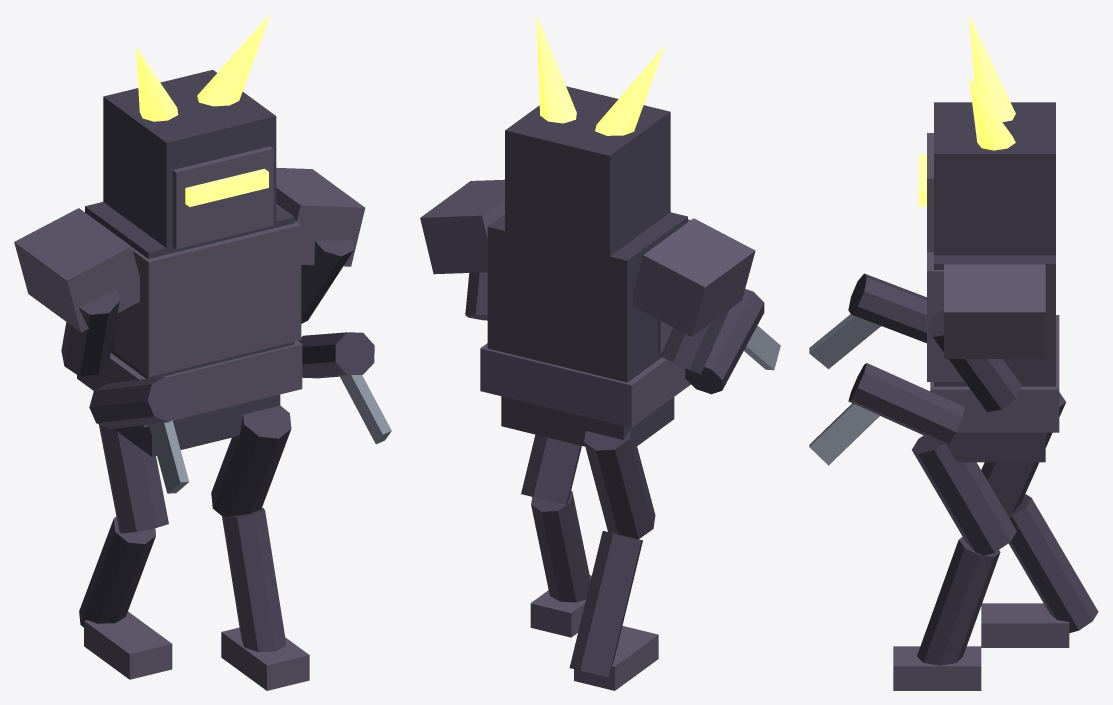
File: enemy_chochin.glb
3 renders of one model, left to right at view 1: azimuth 30°, elevation 25°; view 2: azimuth 150°, elevation 25°; view 3: azimuth 270°, elevation 25°, orthographic. The views are drawn at different scales.
Visible parts, largest first — view 1: ChestPlate, Head, Shoulder_L, Belt, MaskFront, Shin_R, Thigh_R, Shoulder_R, Thigh_L, Shin_L, ArmFore_L, Foot_L (+11 smaller); view 2: Head, Torso, Shoulder_L, Belt, Shin_L, Shoulder_R, Thigh_L, Shin_R, Pelvis, ArmFore_L, Thigh_R, Foot_L (+6 smaller); view 3: Head, Shoulder_R, Thigh_R, Shin_L, Shin_R, ArmFore_R, Belt, Torso, Foot_L, ArmFore_L, Foot_R, Pelvis (+9 smaller).
Part boxes in pixels (left/top/right/bottom): ChestPlate: left=113, top=221, right=301, bottom=376; Head: left=103, top=70, right=276, bottom=254; Shoulder_L: left=14, top=208, right=139, bottom=332; Belt: left=77, top=341, right=302, bottom=427; MaskFront: left=172, top=146, right=273, bottom=249; Shin_R: left=222, top=508, right=286, bottom=651; Thigh_R: left=211, top=405, right=291, bottom=516; Shoulder_R: left=276, top=167, right=365, bottom=266; Thigh_L: left=99, top=424, right=168, bottom=533; Shin_L: left=79, top=516, right=155, bottom=627; ArmFore_L: left=89, top=376, right=186, bottom=428; Foot_L: left=84, top=611, right=172, bottom=679; Head: left=505, top=86, right=670, bottom=265; Torso: left=487, top=212, right=687, bottom=382; Shoulder_L: left=632, top=218, right=755, bottom=336; Belt: left=480, top=343, right=690, bottom=427; Shin_L: left=569, top=531, right=642, bottom=677; Shoulder_R: left=420, top=179, right=504, bottom=274; Thigh_L: left=584, top=430, right=655, bottom=539; Shin_R: left=531, top=491, right=590, bottom=602; Pelvis: left=501, top=396, right=674, bottom=446; ArmFore_L: left=685, top=289, right=764, bottom=394; Thigh_R: left=521, top=434, right=581, bottom=504; Foot_L: left=574, top=626, right=658, bottom=690; Head: left=934, top=102, right=1055, bottom=255; Shoulder_R: left=944, top=264, right=1045, bottom=358; Thigh_R: left=912, top=435, right=1016, bottom=555; Shin_L: left=1007, top=494, right=1098, bottom=633; Shin_R: left=917, top=537, right=1000, bottom=665; ArmFore_R: left=848, top=363, right=964, bottom=445; Belt: left=930, top=315, right=1059, bottom=432; Torso: left=934, top=255, right=1055, bottom=386; Foot_L: left=981, top=603, right=1069, bottom=647; ArmFore_L: left=848, top=273, right=926, bottom=343; Foot_R: left=893, top=646, right=981, bottom=690; Pelvis: left=947, top=432, right=1045, bottom=462.
Size of the model in its own units: 0.9791 by 2 by 0.8533.
